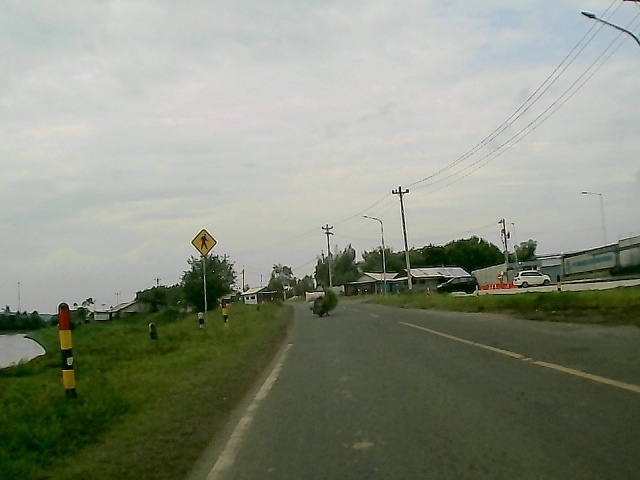Peringatan orang menyeberang: (189, 226, 218, 259)
